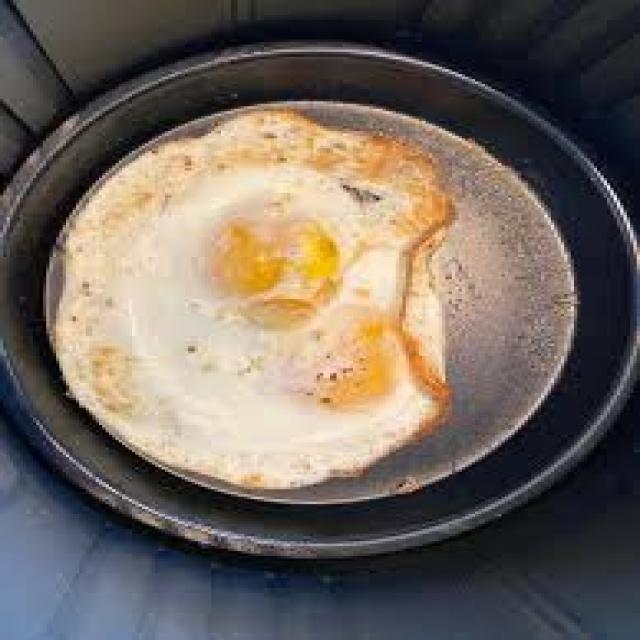Egg: (48, 105, 569, 494)
